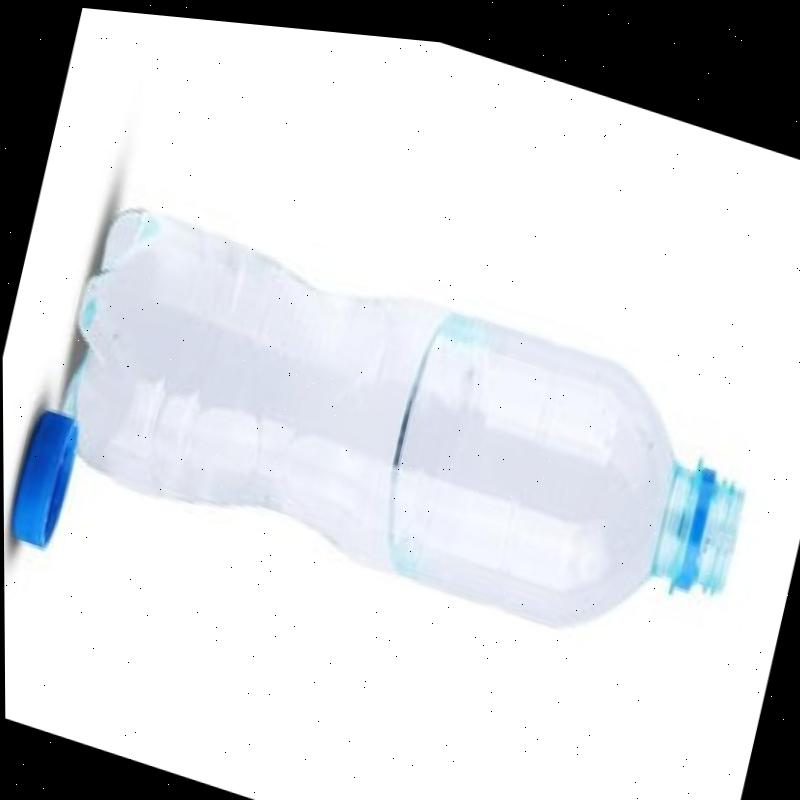botella: (41, 181, 775, 670)
